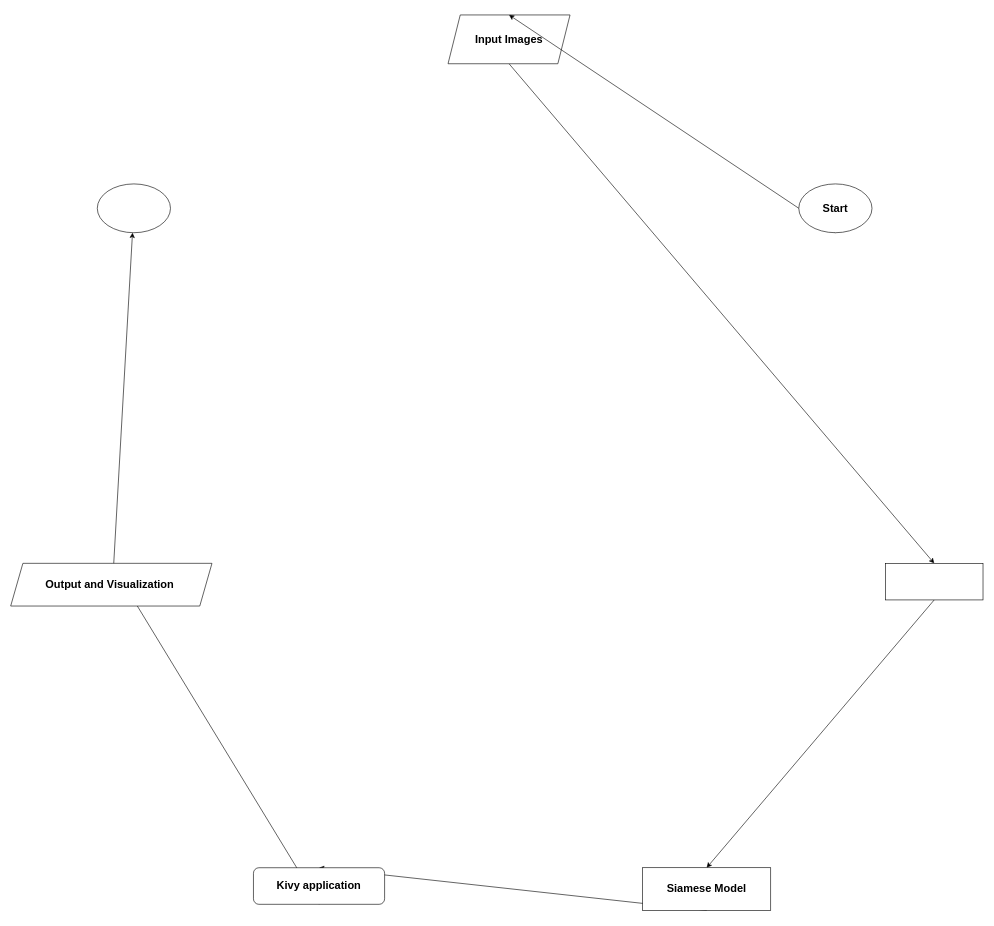
The diagram is 994 pixels wide and 926 high, and some of its shapes have lost their labels. The box of each missing label's shape, as (x1, y1, x2, y2) in pixels:
End: (97, 183, 170, 233)
Preprocess: (885, 563, 983, 600)
